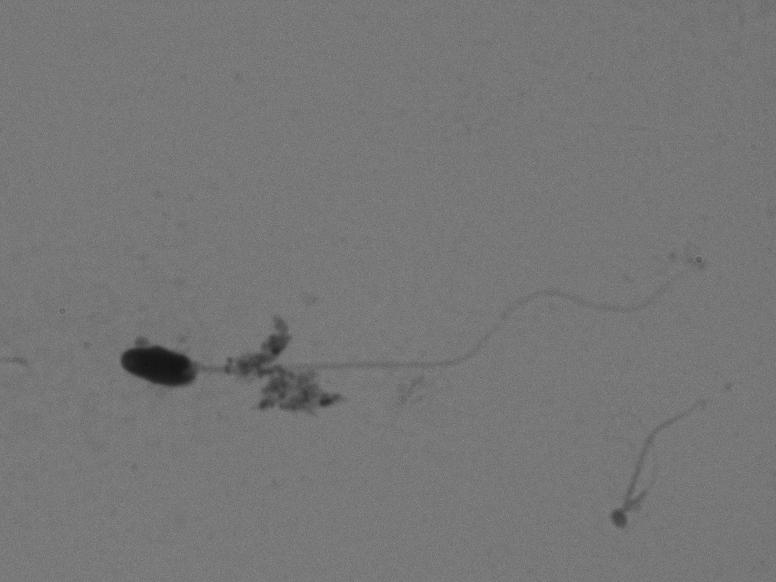Abnormal: (110, 247, 683, 399)
